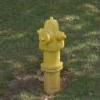Hydrant: (28, 11, 76, 92)
